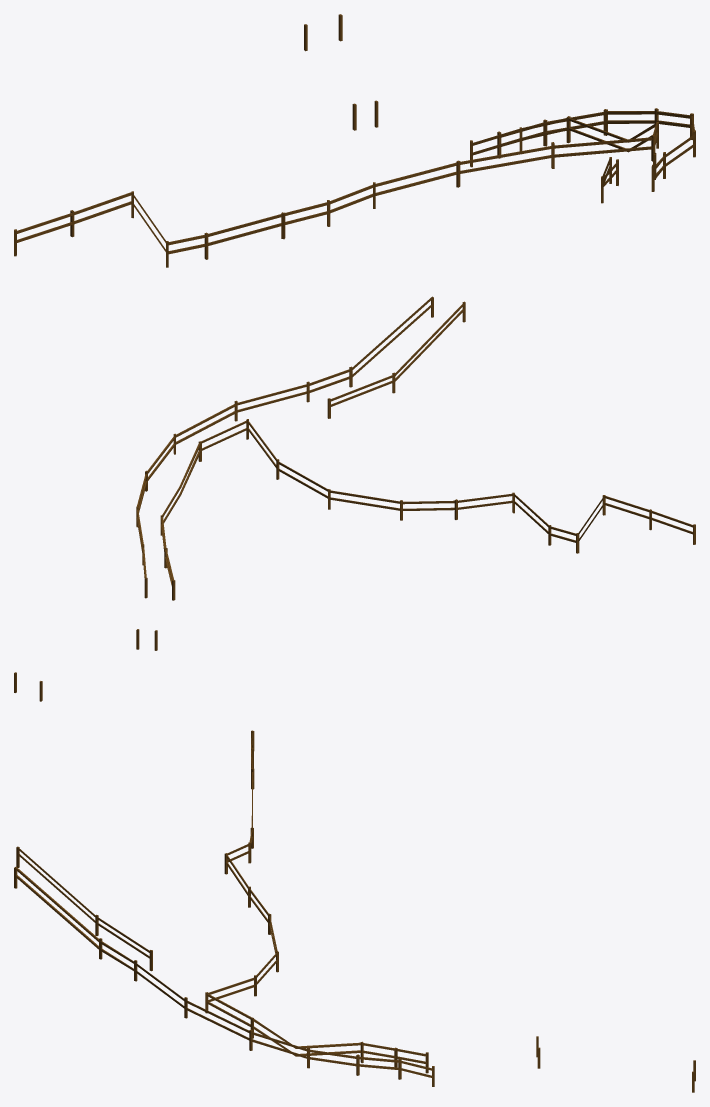
File: FencepostsGroup_low.FBX
3 views of the same model, one above another, from view 1: azimuth 30°, elevation 25°; view 2: azimuth 150°, elevation 25°; view 3: azimuth 270°, elevation 25° (orthographic). The views are drawn at different scales.
Parts seen in each view (by area): view 1: Box083, Box072, Box062, Box065, Box060, Box061; view 2: Box083, Box072, Box062, Box065; view 3: Box062, Box065, Box072, Box060, Box061, Box083.
Boxes of the visible parts, box(x1,y1,x2,y2) form: Box083: box(16, 146, 652, 254); Box072: box(16, 137, 652, 245); Box062: box(500, 111, 694, 170); Box065: box(506, 120, 694, 180); Box060: box(471, 118, 658, 146); Box061: box(471, 127, 658, 155); Box083: box(248, 428, 692, 542); Box072: box(248, 421, 692, 535); Box062: box(136, 296, 432, 577); Box065: box(136, 305, 432, 577); Box062: box(15, 866, 432, 1070); Box065: box(16, 875, 432, 1078); Box072: box(208, 732, 277, 994); Box060: box(206, 994, 426, 1056); Box061: box(207, 1001, 426, 1064); Box083: box(208, 741, 277, 1001).
Size of the model in its own units: 35.23 by 11.65 by 38.67.
